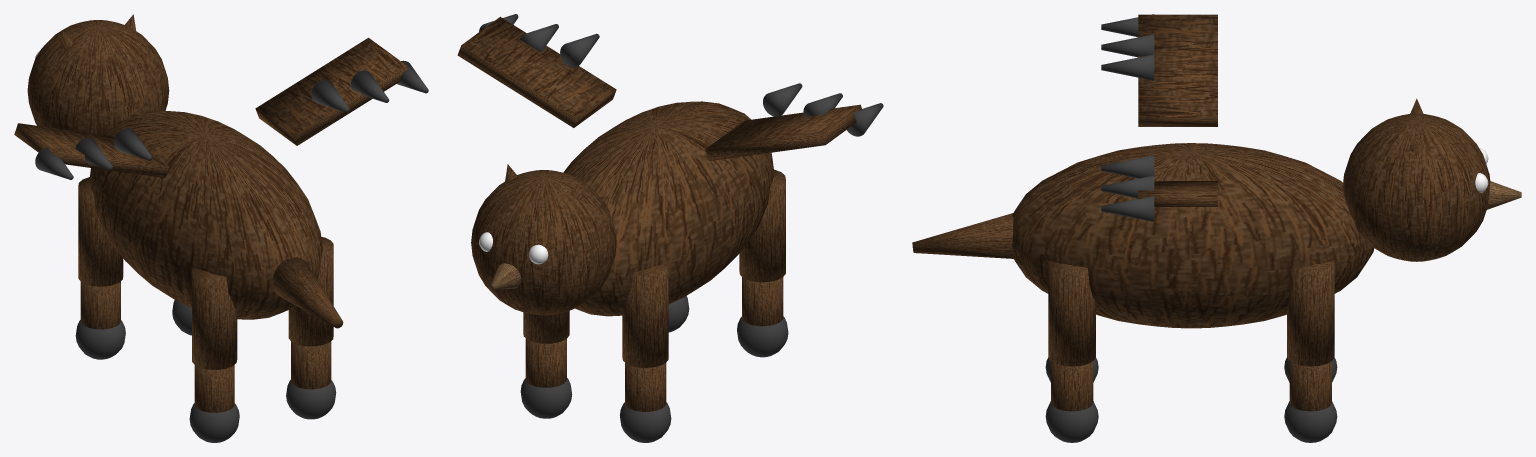
File: falcon-sphinx.glb
3 renders of one model, left to right at view 1: azimuth 30°, elevation 25°; view 2: azimuth 150°, elevation 25°; view 3: azimuth 270°, elevation 25°, orthographic. The views are drawn at different scales.
Parts seen in each view (by area): view 1: Body, Head, Wing.001, LegUpper, Wing, LegUpper.001, Tail, LegUpper.002, LegLower.001, LegLower.002, LegLower, Paw (+9 smaller); view 2: Body, Head, Wing.001, Wing, LegUpper.001, LegUpper, LegLower.003, LegLower.001, LegLower, Paw, Paw.003, Paw.001 (+8 smaller); view 3: Body, Head, Wing, LegUpper.003, LegUpper.002, Tail, LegLower.003, LegLower.002, Wing.001, Paw.002, Paw.003, Feather (+5 smaller).
Boxes of the visible parts, box(x1,y1,x2,y2) form: Body: box(89, 110, 322, 319); Head: box(27, 20, 169, 134); Wing.001: box(255, 37, 407, 145); LegUpper: box(192, 267, 237, 369); Wing: box(14, 123, 168, 178); LegUpper.001: box(78, 177, 123, 286); Tail: box(273, 257, 343, 328); LegUpper.002: box(288, 237, 333, 346); LegLower.001: box(80, 281, 120, 329); LegLower.002: box(291, 341, 331, 389); LegLower: box(194, 365, 234, 412); Paw: box(189, 403, 239, 442); Body: box(563, 101, 774, 316); Head: box(471, 170, 616, 315); Wing.001: box(457, 16, 616, 127); Wing: box(705, 104, 862, 161); LegUpper.001: box(622, 262, 668, 367); LegUpper: box(739, 169, 785, 282); LegLower.003: box(525, 338, 566, 387); LegLower.001: box(625, 363, 666, 411); LegLower: box(742, 277, 783, 326); Paw: box(737, 316, 788, 357); Paw.003: box(520, 378, 572, 418); Paw.001: box(619, 402, 671, 442); Body: box(1012, 143, 1374, 328); Head: box(1342, 113, 1490, 261); Wing: box(1138, 14, 1217, 126); LegUpper.003: box(1287, 260, 1334, 366); LegUpper.002: box(1048, 260, 1095, 366); Tail: box(912, 213, 1013, 258); LegLower.003: box(1289, 361, 1331, 411); LegLower.002: box(1051, 361, 1093, 411); Wing.001: box(1138, 181, 1217, 206); Paw.002: box(1045, 401, 1098, 442); Paw.003: box(1284, 401, 1337, 442); Feather: box(1101, 54, 1154, 80).
Size of the model in its own units: 1.33 by 1 by 1.77.
4 materials, 2 textured.
